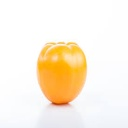tomato: (36, 42, 88, 104)
